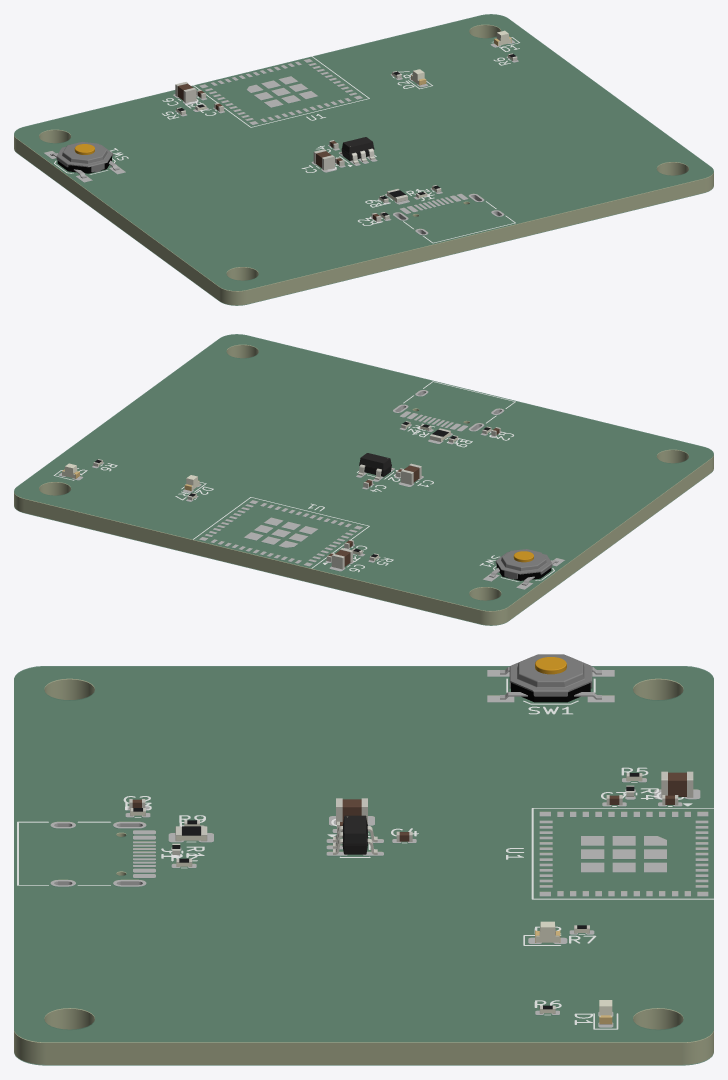
File: board.glb
3 views of the same model, one above another, from view 1: azimuth 30°, elevation 25°; view 2: azimuth 150°, elevation 25°; view 3: azimuth 270°, elevation 25° (orthographic). The views are drawn at different scales.
Visible parts, largest first — view 1: =>[0:1:1:21], =>[0:1:1:19], =>[0:1:1:17], =>[0:1:1:18], =>[0:1:1:13], =>[0:1:1:20], =>[0:1:1:15]; view 2: =>[0:1:1:21], =>[0:1:1:19], =>[0:1:1:17], =>[0:1:1:18], =>[0:1:1:13], =>[0:1:1:20], =>[0:1:1:15]; view 3: =>[0:1:1:21], =>[0:1:1:19], =>[0:1:1:17], =>[0:1:1:13], =>[0:1:1:18], =>[0:1:1:15], =>[0:1:1:5], =>[0:1:1:20].
Part boxes in pixels (<box>): =>[0:1:1:21]: <box>14,15,713,305</box>; =>[0:1:1:19]: <box>14,14,713,290</box>; =>[0:1:1:17]: <box>44,40,518,235</box>; =>[0:1:1:18]: <box>54,37,519,243</box>; =>[0:1:1:13]: <box>50,141,119,178</box>; =>[0:1:1:20]: <box>14,150,713,305</box>; =>[0:1:1:15]: <box>340,137,375,163</box>; =>[0:1:1:21]: <box>14,335,713,625</box>; =>[0:1:1:19]: <box>14,334,713,610</box>; =>[0:1:1:17]: <box>58,390,564,589</box>; =>[0:1:1:18]: <box>53,381,554,581</box>; =>[0:1:1:13]: <box>489,549,558,585</box>; =>[0:1:1:20]: <box>14,470,713,625</box>; =>[0:1:1:15]: <box>358,453,393,479</box>; =>[0:1:1:21]: <box>14,667,713,1064</box>; =>[0:1:1:19]: <box>14,666,713,1042</box>; =>[0:1:1:17]: <box>50,670,708,1027</box>; =>[0:1:1:13]: <box>500,654,601,702</box>; =>[0:1:1:18]: <box>17,678,713,1029</box>; =>[0:1:1:15]: <box>333,815,377,854</box>; =>[0:1:1:5]: <box>661,771,693,797</box>; =>[0:1:1:20]: <box>14,1052,713,1065</box>.
Size of the model in its own units: 0.056 by 0.0032 by 0.044.
